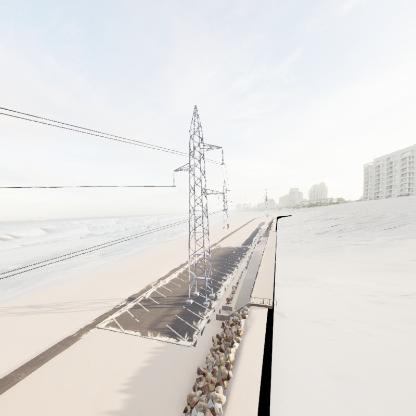tower: (166, 103, 228, 310)
